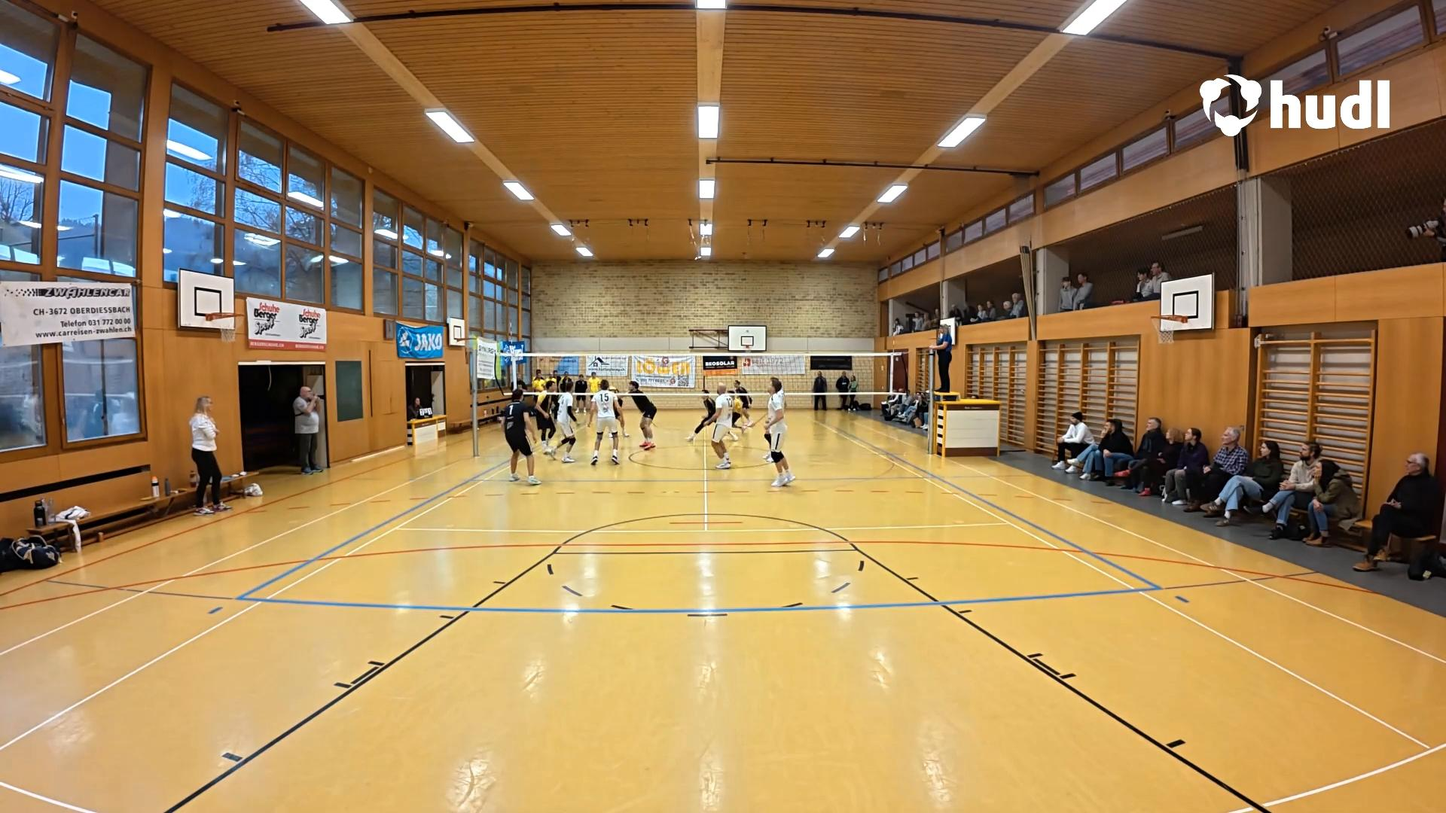Dig: (619, 376, 659, 455)
Player: (760, 372, 794, 489), (499, 387, 536, 486), (590, 375, 627, 465), (703, 379, 736, 475), (556, 379, 580, 469), (530, 374, 554, 457), (688, 388, 716, 443), (722, 389, 750, 432)
